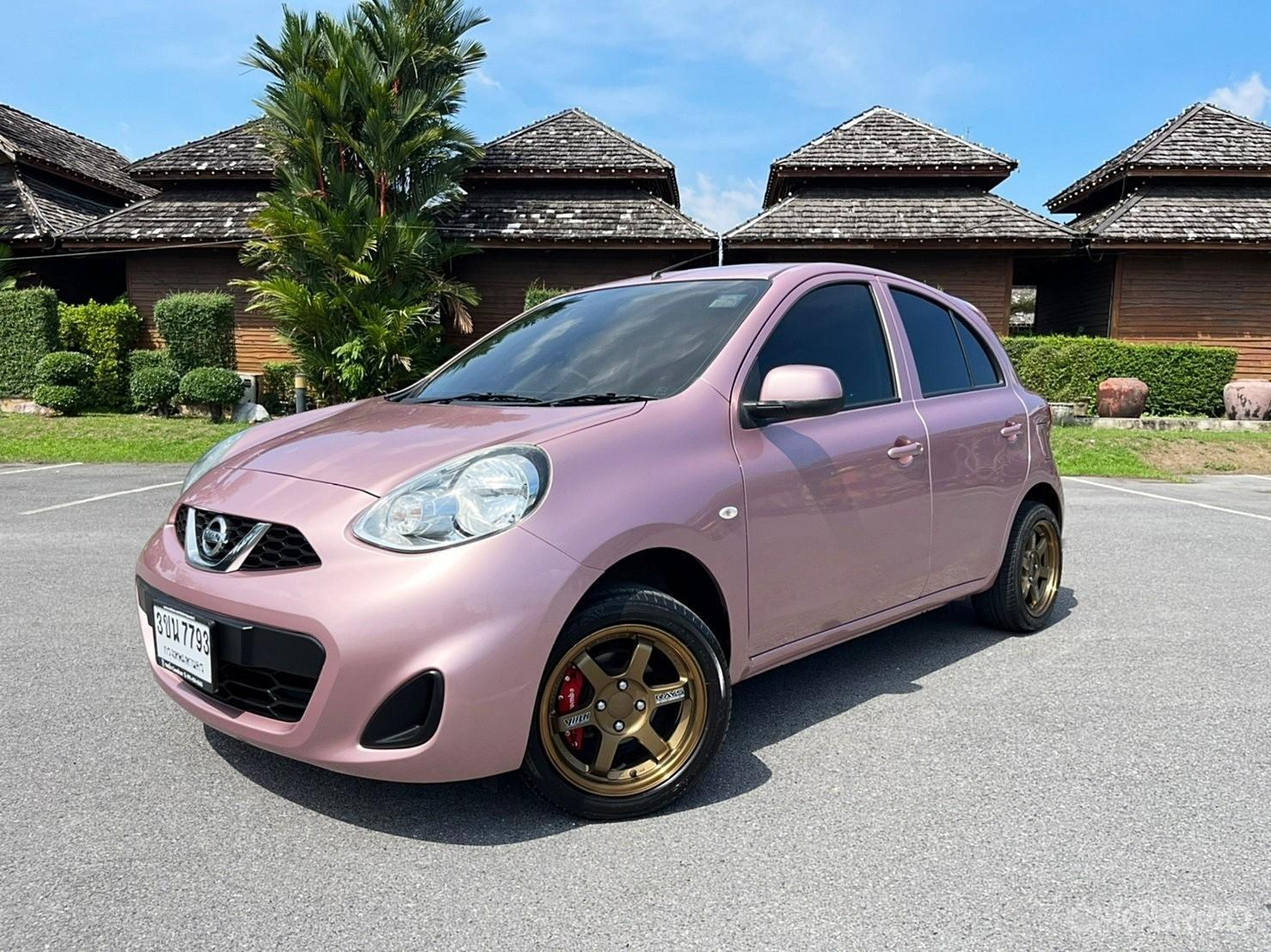license-plate: (141, 600, 224, 695)
